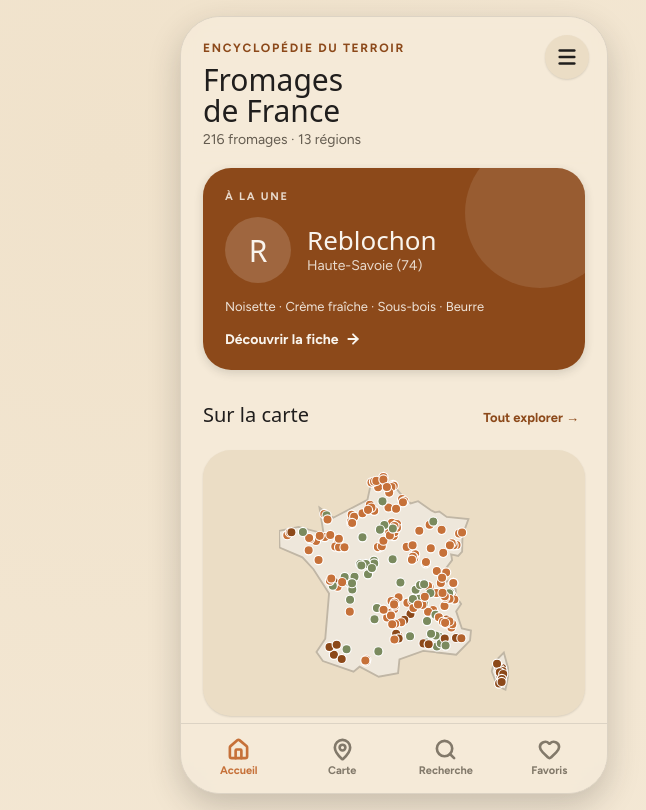
Test: Accès aux mentions légales depuis le menu › ouvre l'écran Mentions légales et le referme
What coordinates should you click on to do the following:
click the button named "Ouvrir le menu"
I would click on:
 (567, 57)
Its box is left=545, top=35, right=589, bottom=79.
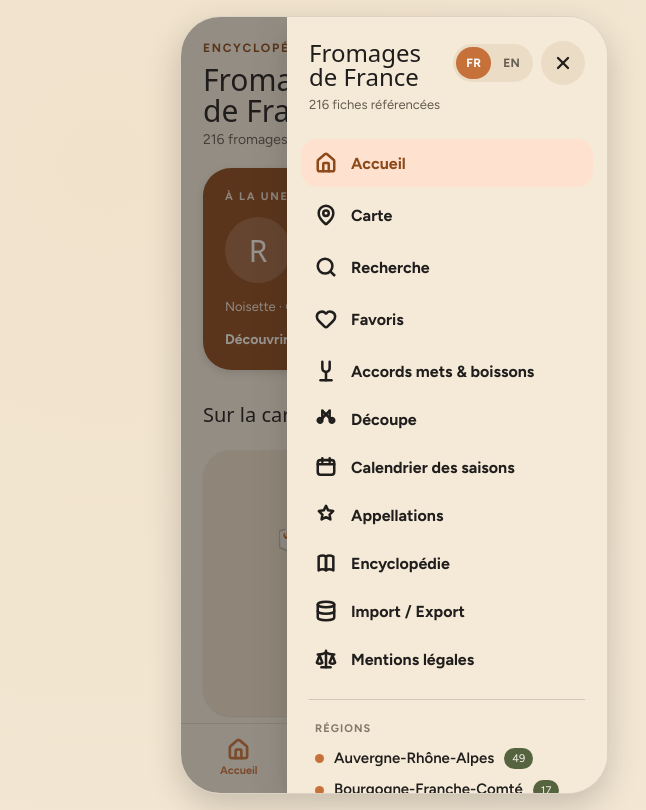
What coordinates should you click on to do the following:
click the button "Mentions légales"
I would click on:
 (447, 659)
Its box is left=301, top=635, right=593, bottom=683.
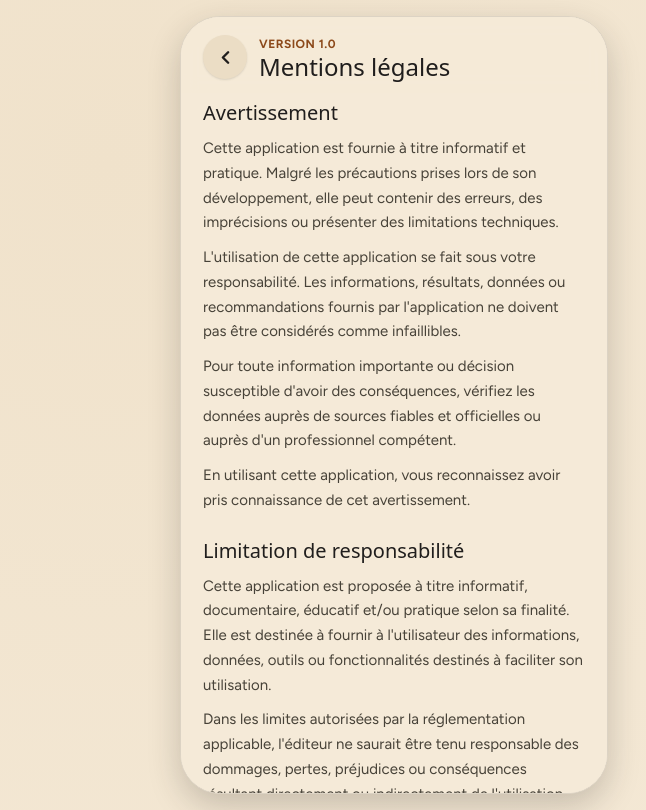
expect the heading "Mentions légales" is shown: met, box left=259, top=54, right=450, bottom=79
expect the heading "Avertissement" is shown: met, box left=203, top=99, right=338, bottom=126
expect the heading "Limitation de responsabilité" is shown: met, box left=203, top=536, right=464, bottom=564
What coordinates should you click on to do the following:
click the button named "Retour"
I would click on:
 (225, 57)
Its box is left=203, top=35, right=247, bottom=79.
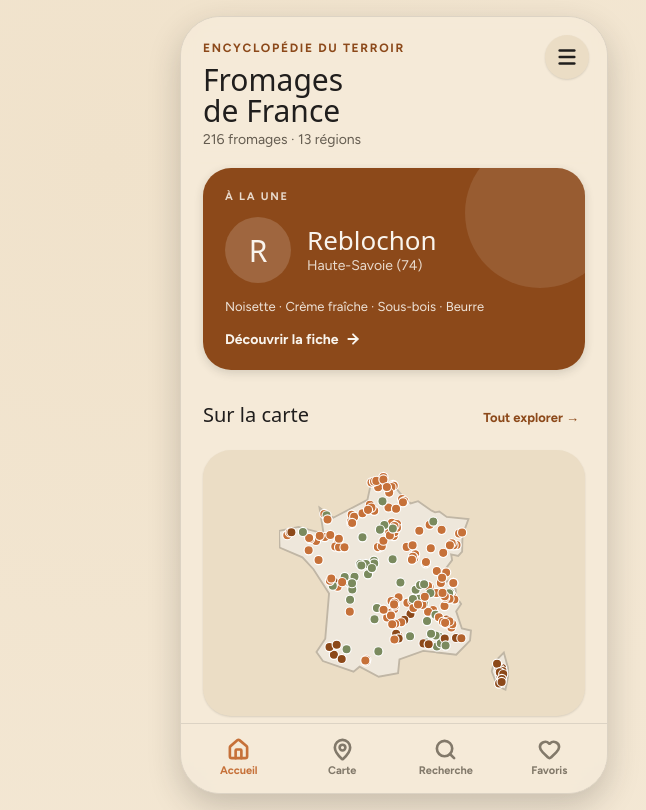
expect the heading "Mentions légales" is gone: met
